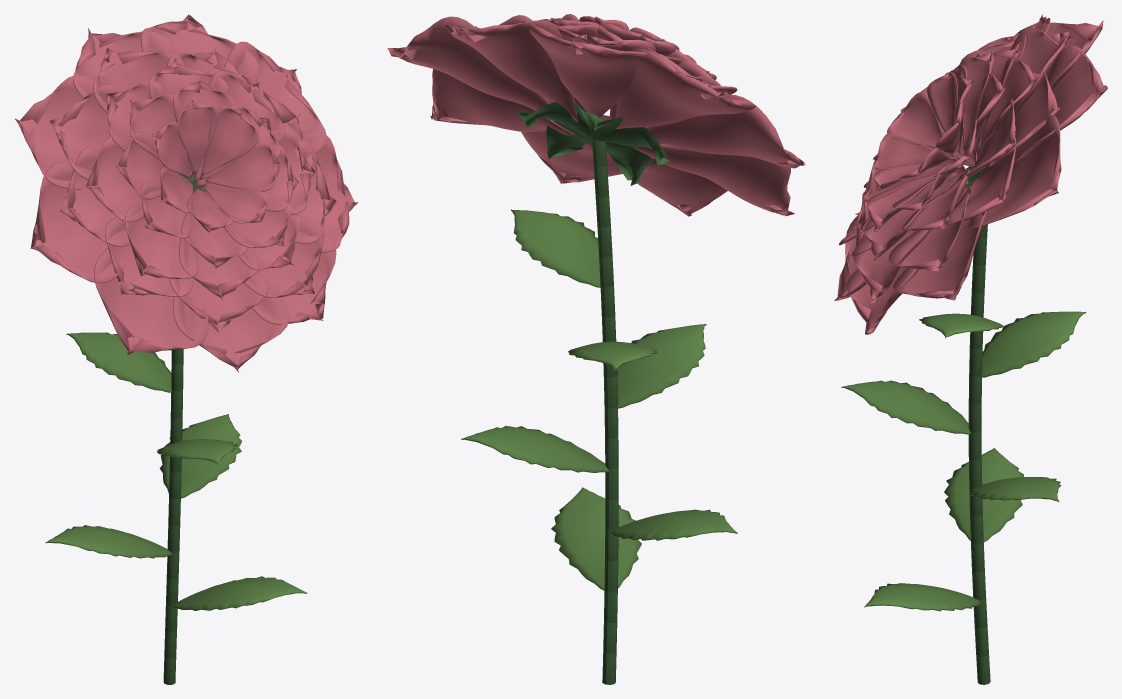
File: camellia-epic-v2.glb
The picture shows the model from 3 angles, left to right: view 1: azimuth 30°, elevation 25°; view 2: azimuth 150°, elevation 25°; view 3: azimuth 270°, elevation 25°; orthographic projection. The views are drawn at different scales.
Visible parts, largest first — view 1: camellia-epic-v2-petal, camellia-epic-v2-leaf, camellia-epic-v2-stem; view 2: camellia-epic-v2-petal, camellia-epic-v2-leaf, camellia-epic-v2-stem; view 3: camellia-epic-v2-petal, camellia-epic-v2-leaf, camellia-epic-v2-stem.
Part boxes in pixels (<box>): camellia-epic-v2-petal: <box>14,14,358,372</box>; camellia-epic-v2-leaf: <box>45,332,307,610</box>; camellia-epic-v2-stem: <box>163,173,204,684</box>; camellia-epic-v2-petal: <box>387,14,805,216</box>; camellia-epic-v2-leaf: <box>461,209,737,590</box>; camellia-epic-v2-stem: <box>517,102,668,684</box>; camellia-epic-v2-petal: <box>834,14,1107,334</box>; camellia-epic-v2-leaf: <box>841,311,1086,611</box>; camellia-epic-v2-stem: <box>955,166,990,684</box>.
Bounding box in the file's own units: 1.11 × 1.99 × 0.7613.
